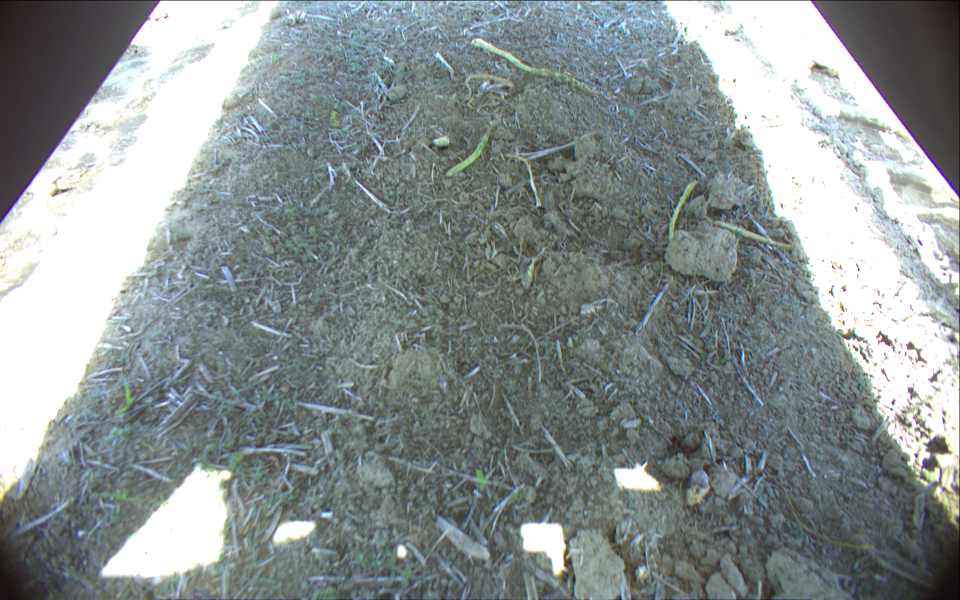aspa: (470, 38, 598, 95), (446, 123, 497, 177), (712, 219, 796, 249), (667, 180, 699, 242)
